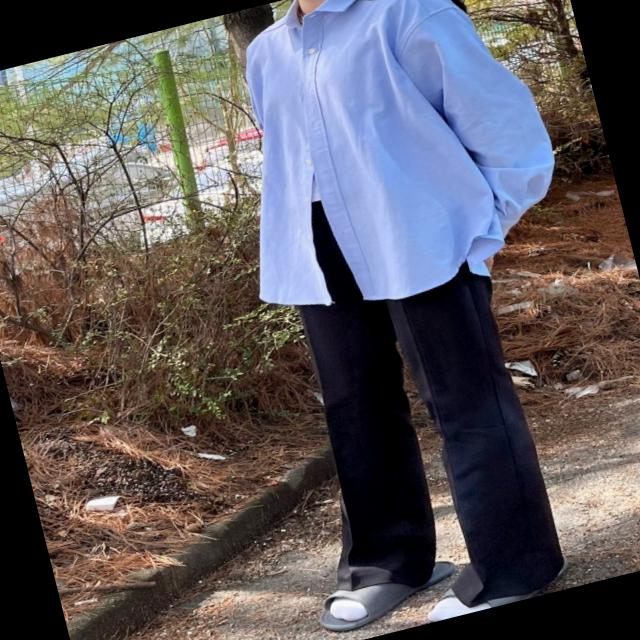shirt: (189, 0, 579, 333)
slacks: (244, 160, 572, 637)
